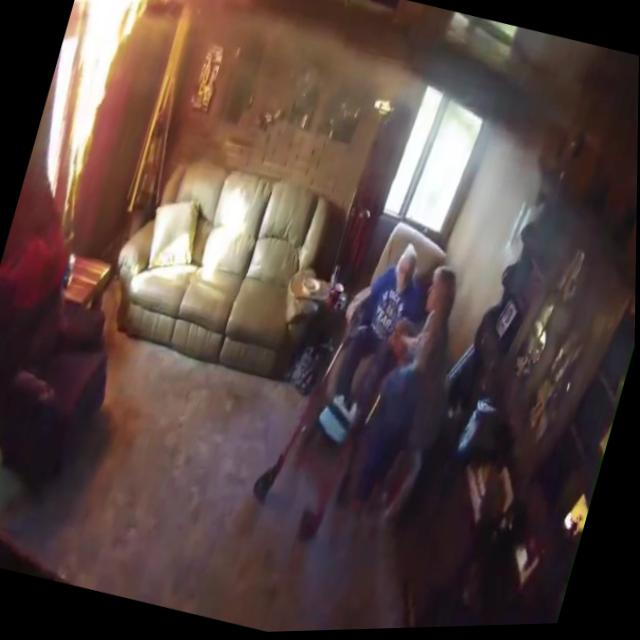fire: (21, 0, 145, 208), (68, 0, 194, 51)
